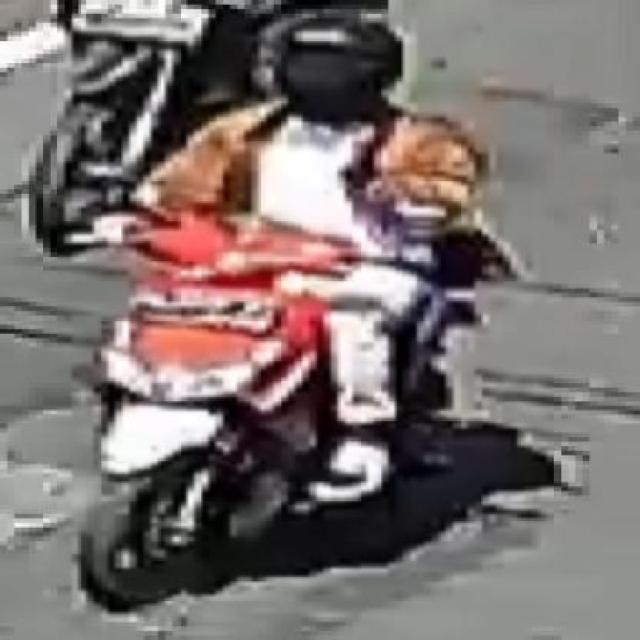helmet: (260, 9, 414, 134)
motorcycle: (74, 0, 514, 623)
